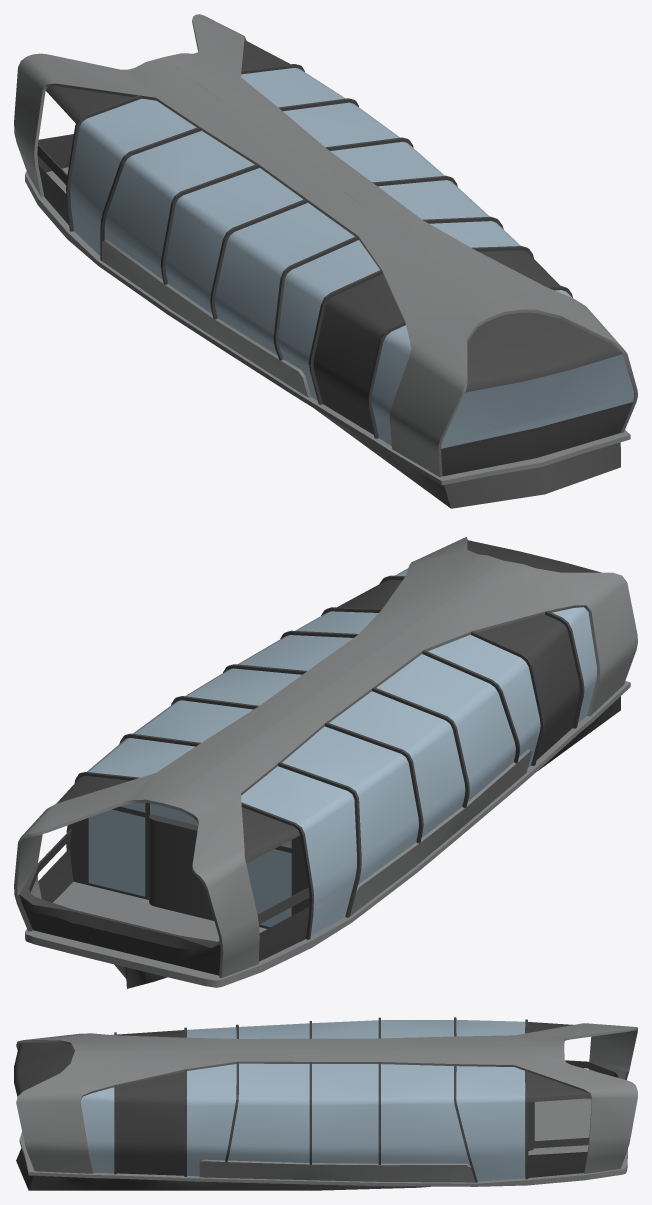
File: BOAT.gltf
3 views of the same model, one above another, from view 1: azimuth 30°, elevation 25°; view 2: azimuth 150°, elevation 25°; view 3: azimuth 270°, elevation 25° (orthographic). The views are drawn at different scales.
Visible parts, largest first — view 1: СИНИЧКА2; view 2: СИНИЧКА2; view 3: СИНИЧКА2.
Boxes of the visible parts, <box> form: СИНИЧКА2: <box>14,14,637,508</box>; СИНИЧКА2: <box>14,537,637,988</box>; СИНИЧКА2: <box>14,1017,637,1190</box>.
Size of the model in its own units: 7.79 by 4.52 by 22.39.
